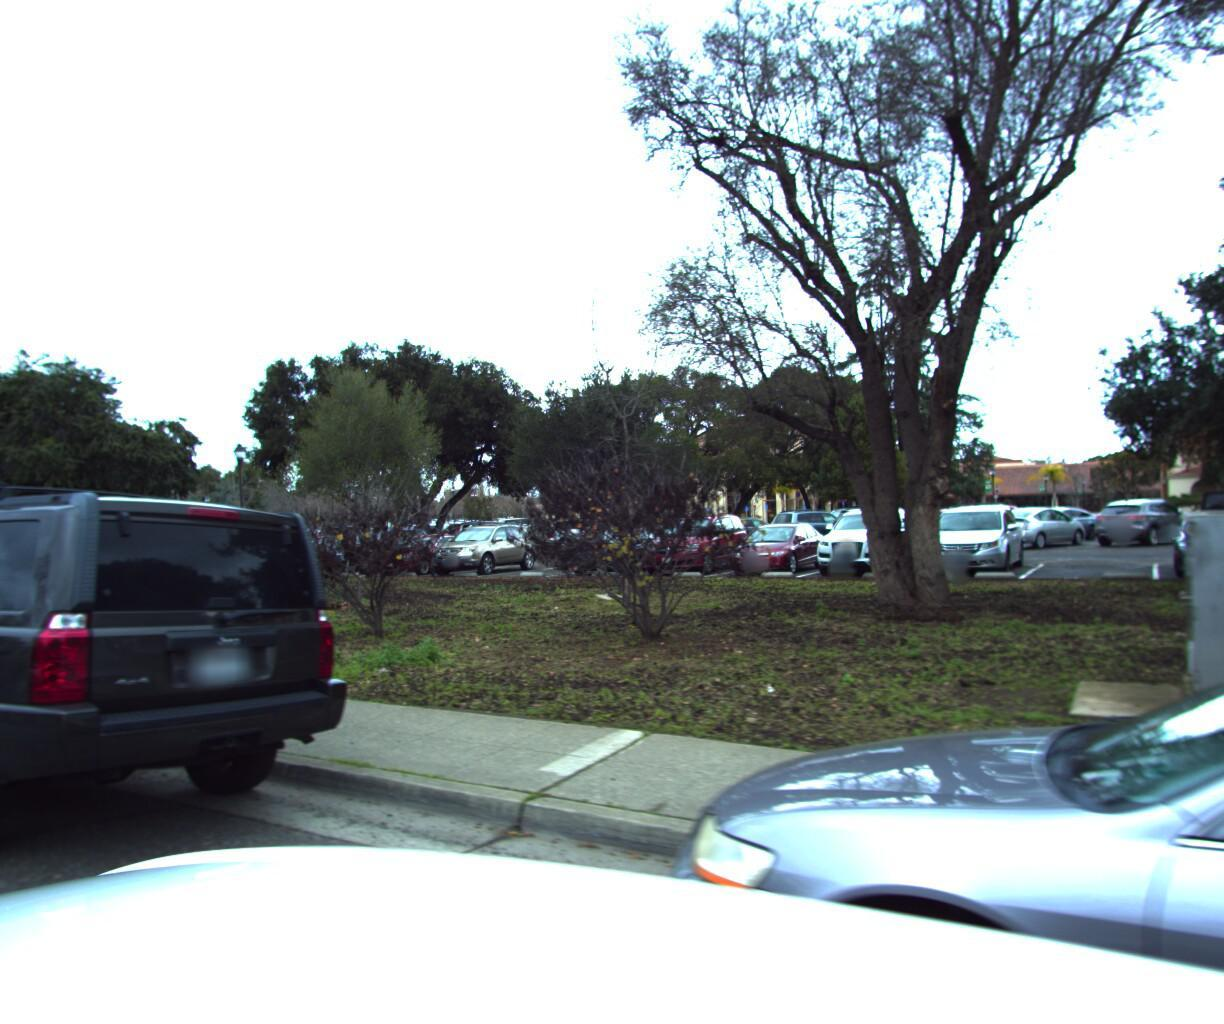car: (0, 482, 391, 931)
